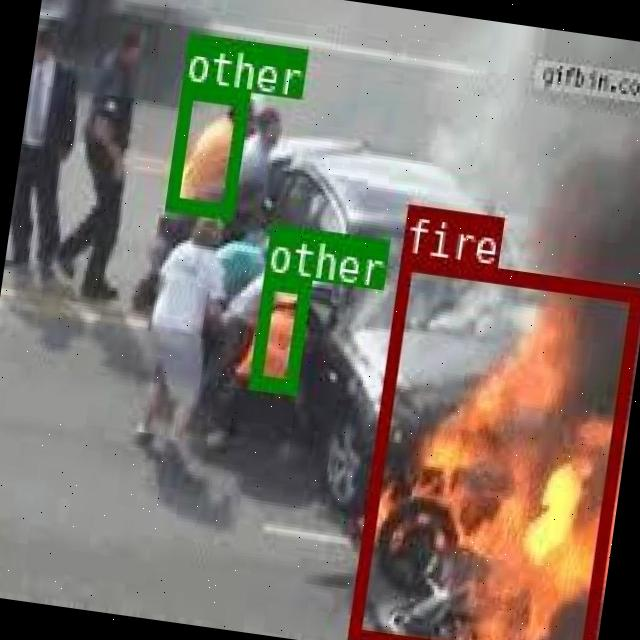fire: (347, 252, 640, 640)
